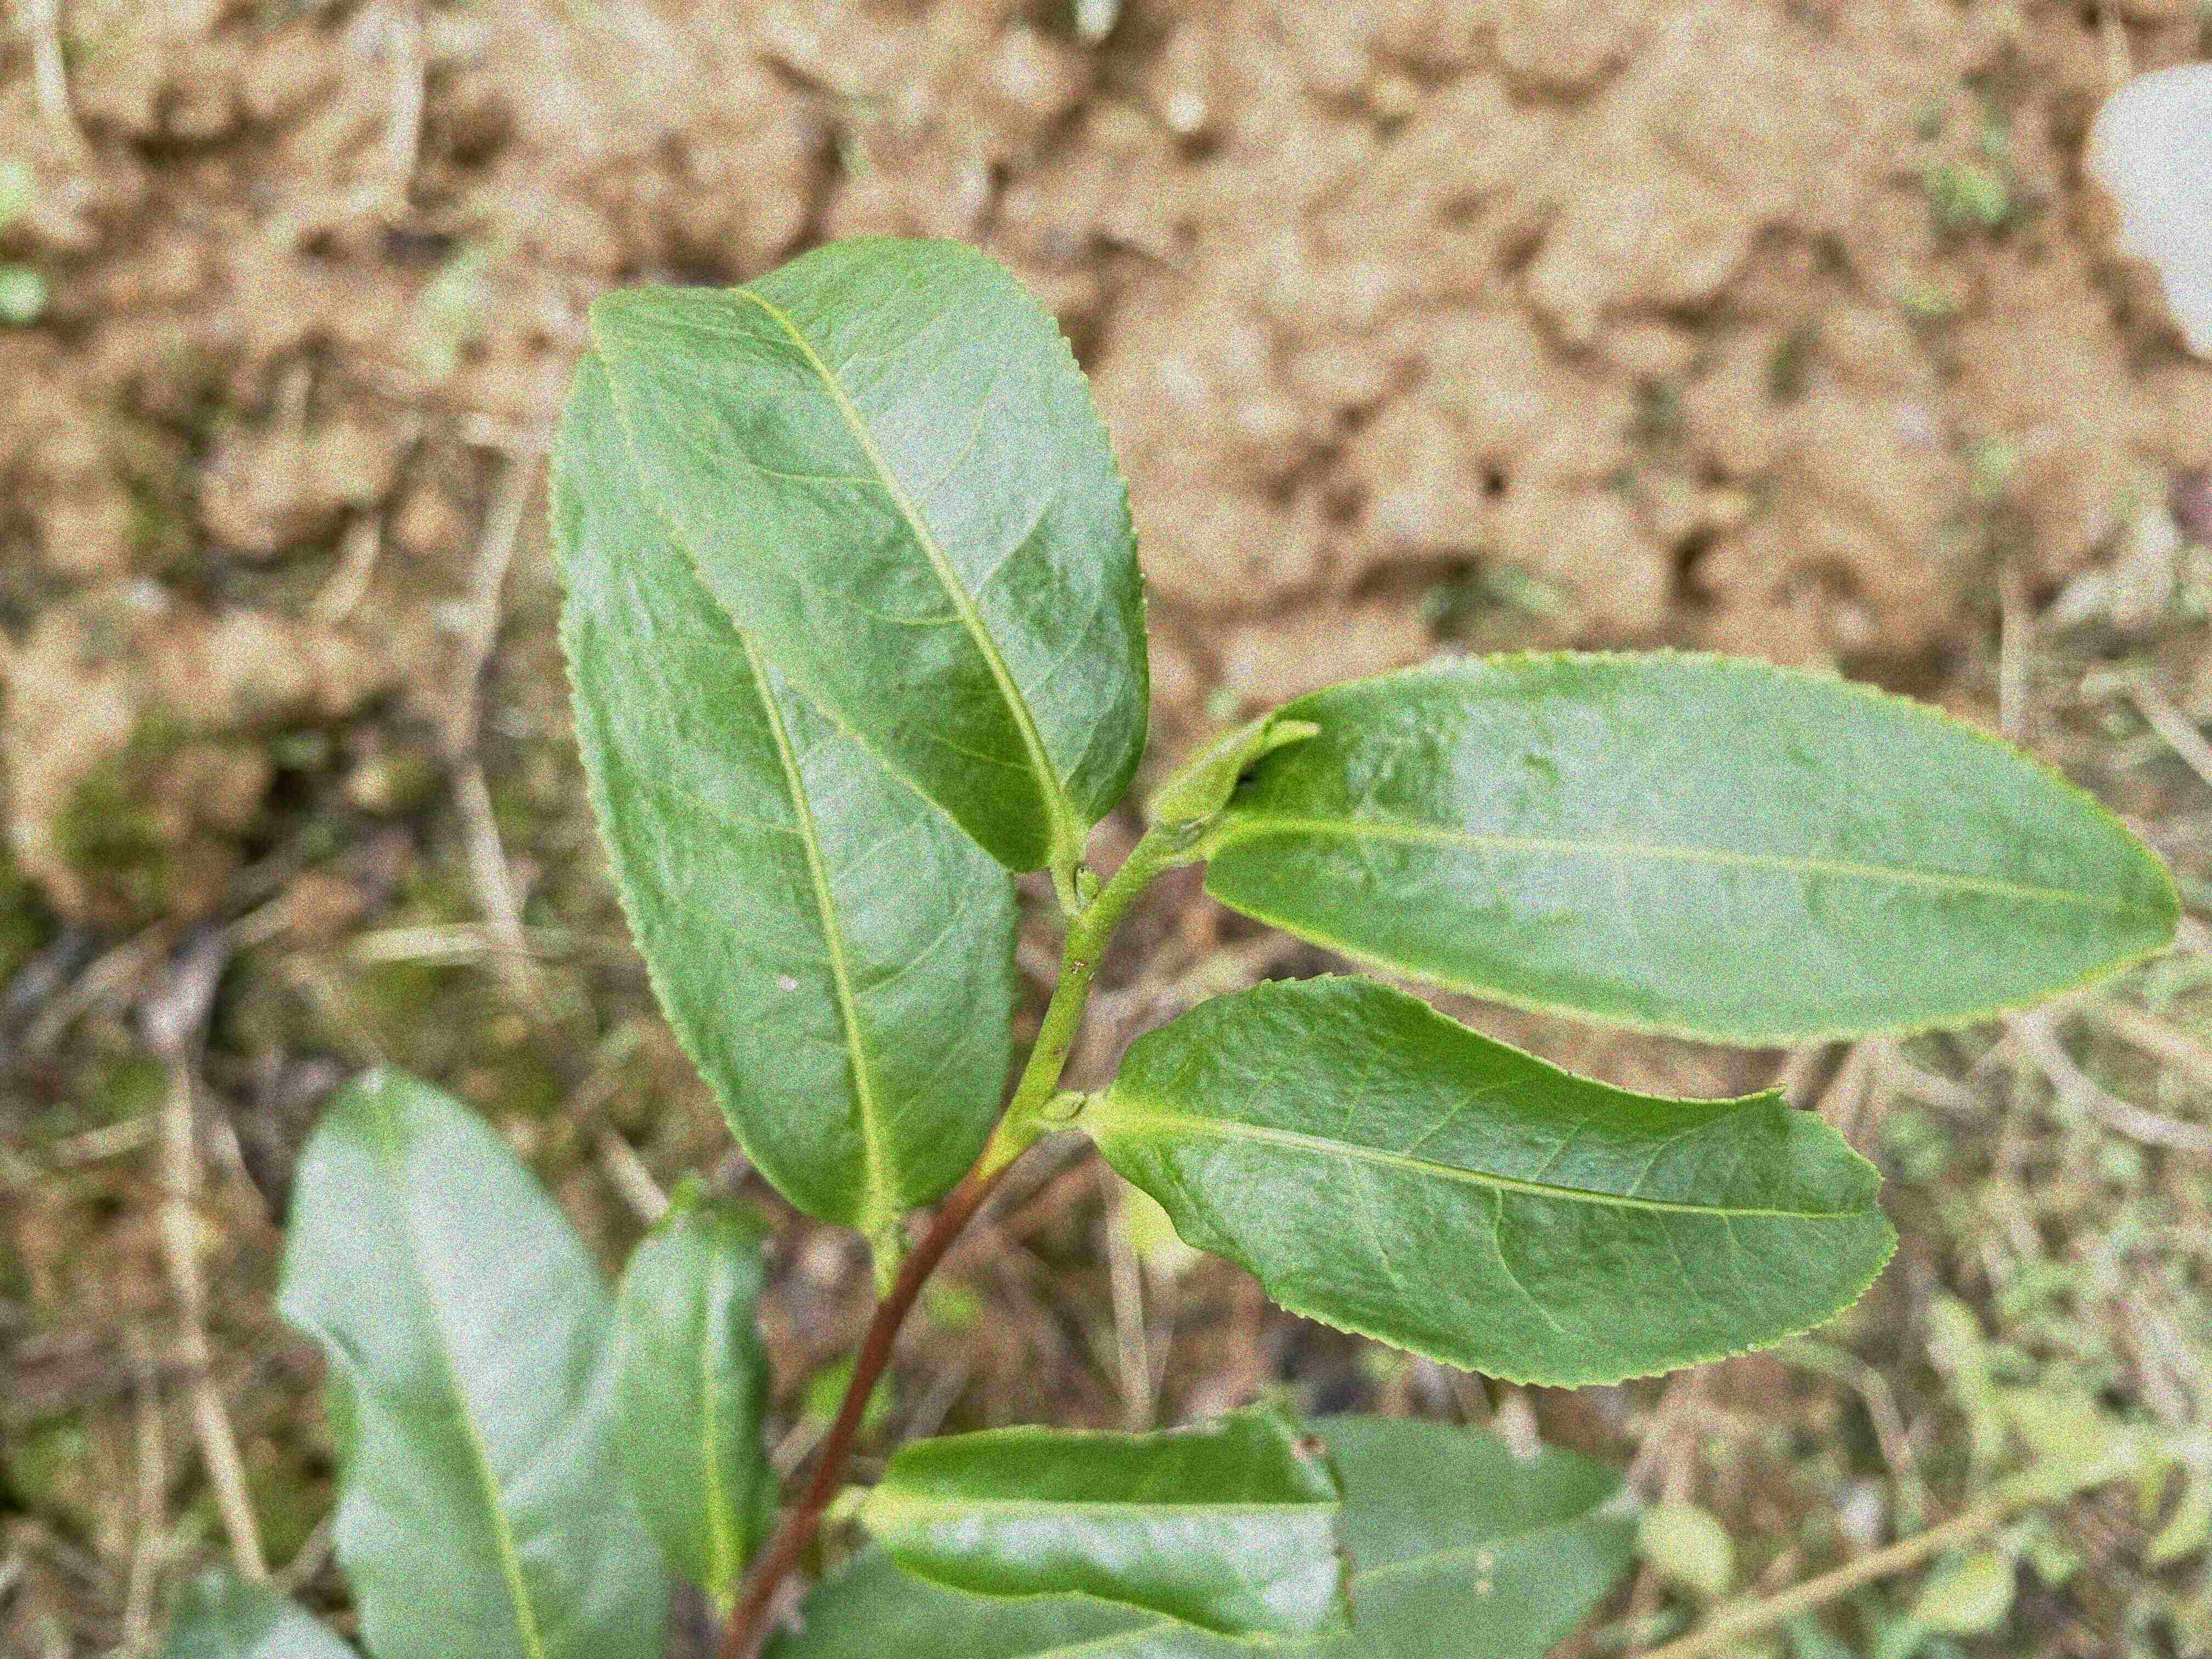healthy: (1204, 645, 2182, 1046), (589, 230, 1153, 875), (1083, 965, 1904, 1394)
tanju_low: (543, 340, 1021, 1234)
